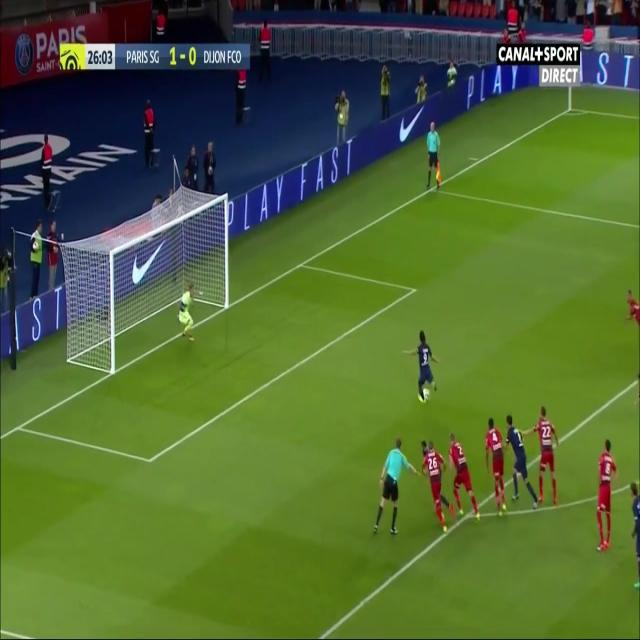Ball: (422, 386, 430, 406)
Goalkeeper: (175, 285, 198, 344)
Player: (526, 406, 562, 510), (504, 412, 541, 512), (449, 431, 481, 523), (402, 330, 439, 401), (595, 437, 617, 556), (485, 415, 510, 517), (422, 440, 448, 536), (628, 479, 640, 590)
Referee: (371, 432, 419, 541), (424, 120, 444, 198)
